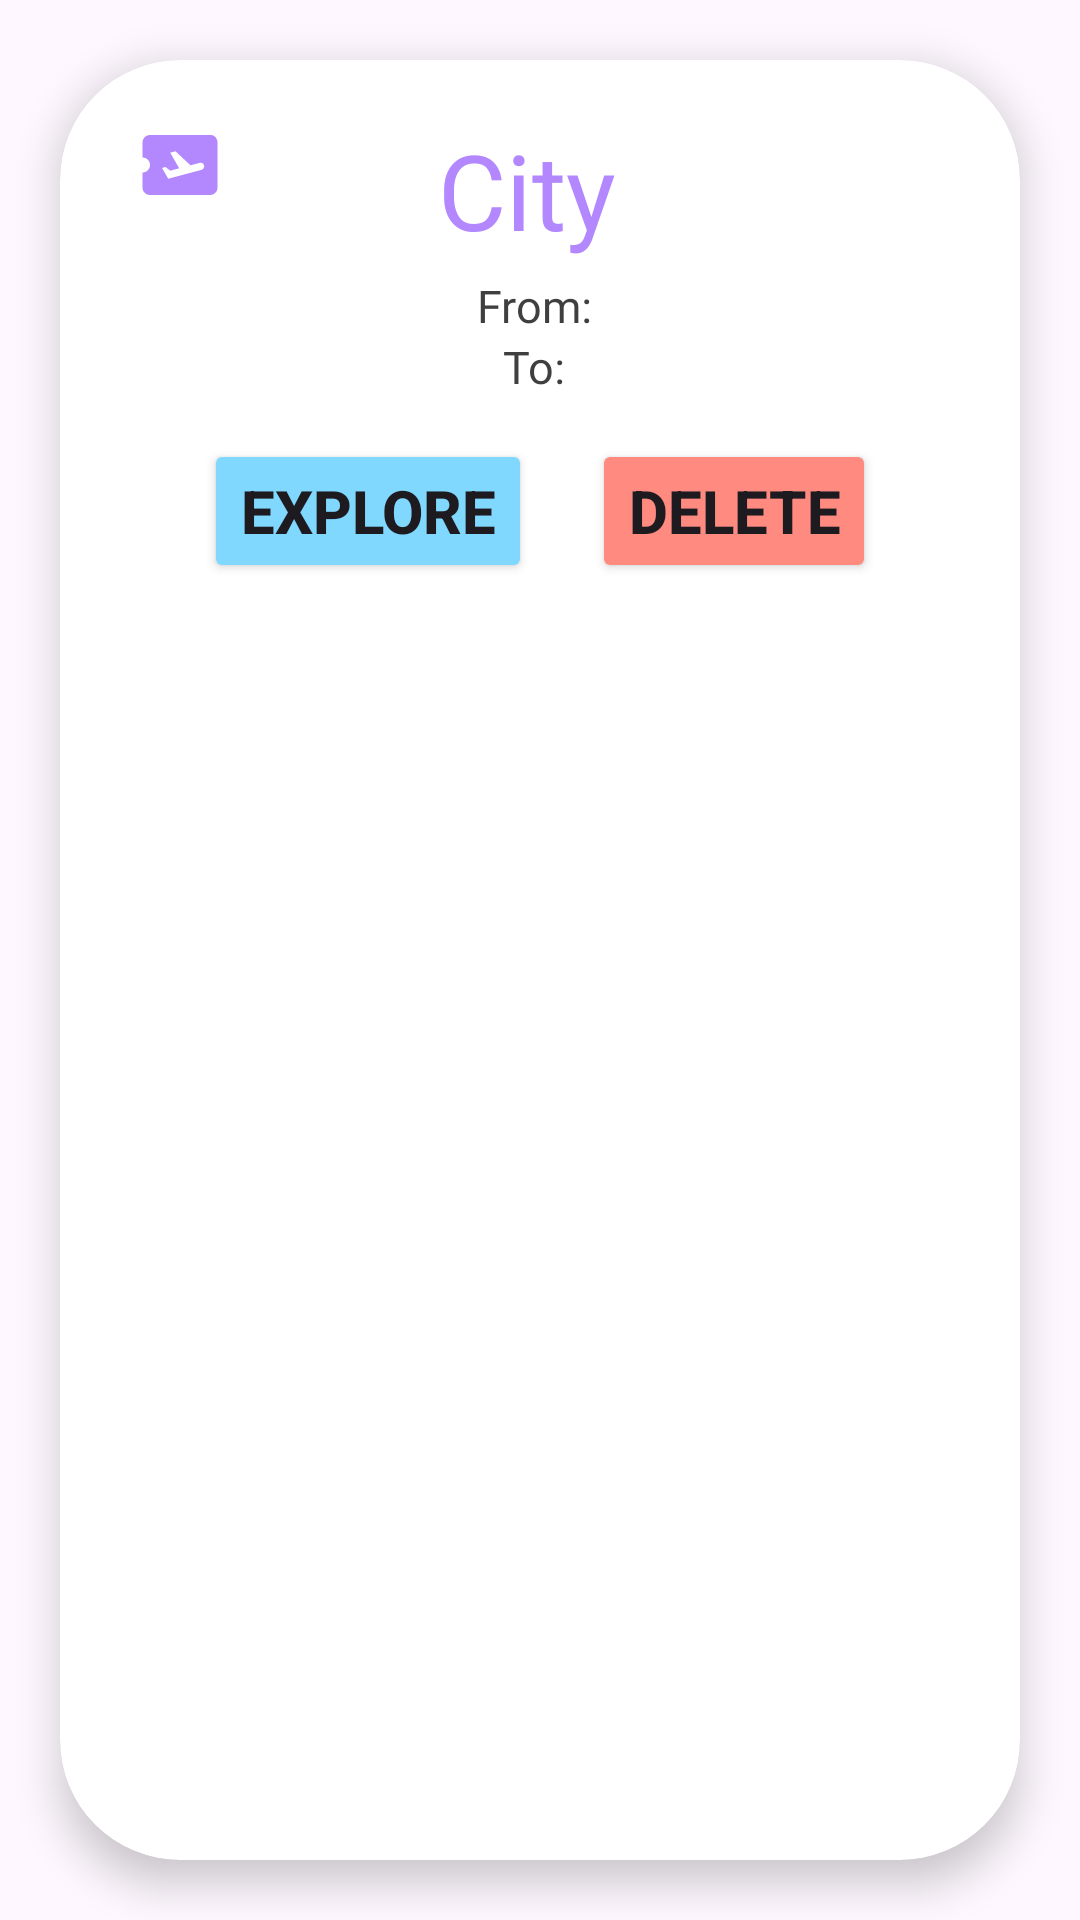

Icons on this 1080px x 1920px Android screen, each with its box as (x1, y1, x2, y2):
airplane ticket: (142, 135, 218, 195)
